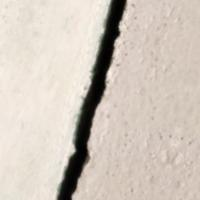crack: (55, 0, 148, 199)
